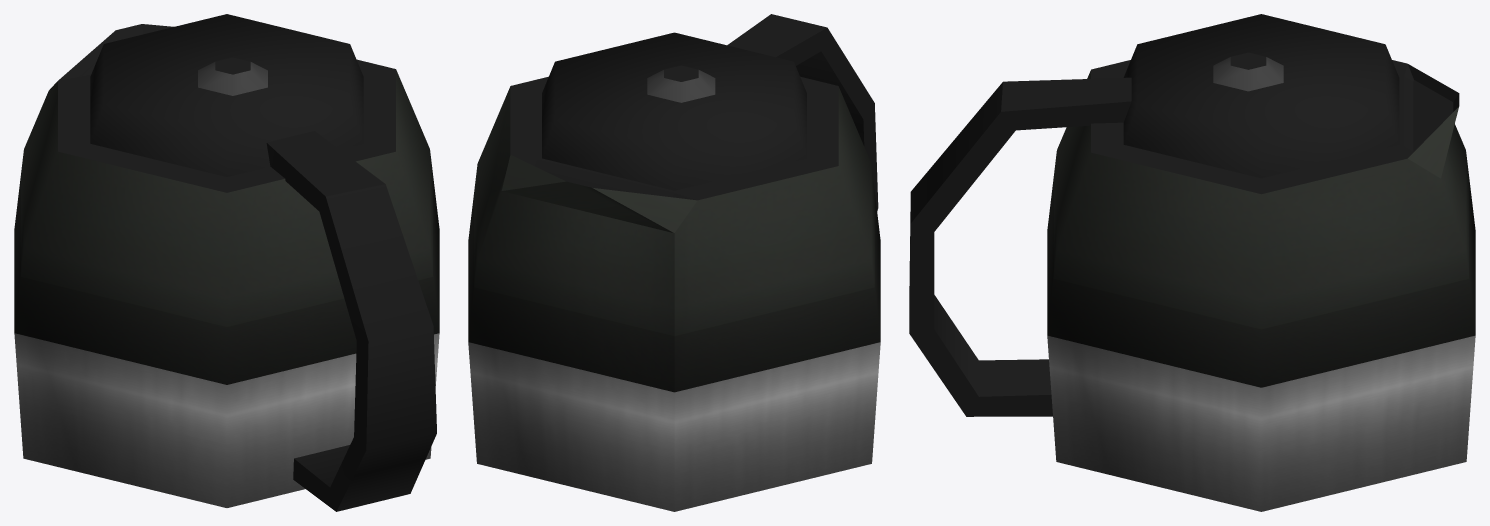
The model's file is Coffee_Pot_B.FBX.
The picture shows the model from 3 angles, left to right: view 1: azimuth 30°, elevation 25°; view 2: azimuth 150°, elevation 25°; view 3: azimuth 270°, elevation 25°; orthographic projection. The views are drawn at different scales.
Visible parts, largest first — view 1: Coffee_Pot001; view 2: Coffee_Pot001; view 3: Coffee_Pot001.
Boxes of the visible parts, box(x1,y1,x2,y2) form: Coffee_Pot001: box(14, 14, 439, 511); Coffee_Pot001: box(468, 14, 880, 511); Coffee_Pot001: box(909, 14, 1475, 511).
Size of the model in its own units: 36.23 by 28.31 by 41.48.
